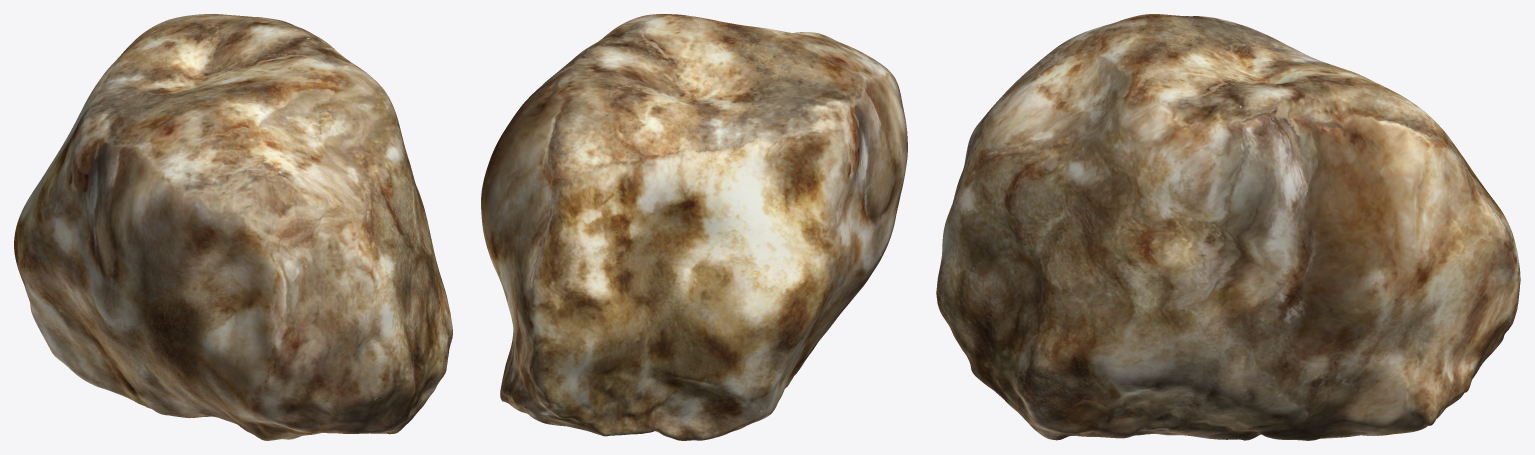
The model's file is LightRock1.fbx.
3 views of the same model, side by side, from view 1: azimuth 30°, elevation 25°; view 2: azimuth 150°, elevation 25°; view 3: azimuth 270°, elevation 25° (orthographic). The views are drawn at different scales.
Visible parts, largest first — view 1: Mesh_0.005; view 2: Mesh_0.005; view 3: Mesh_0.005.
Part boxes in pixels (box(x1,y1,x2,y2)): Mesh_0.005: box(14, 14, 452, 440); Mesh_0.005: box(481, 14, 907, 440); Mesh_0.005: box(936, 14, 1520, 440).
Size of the model in its own units: 147 by 142 by 218.
Materials: 1 (1 with a texture image).
